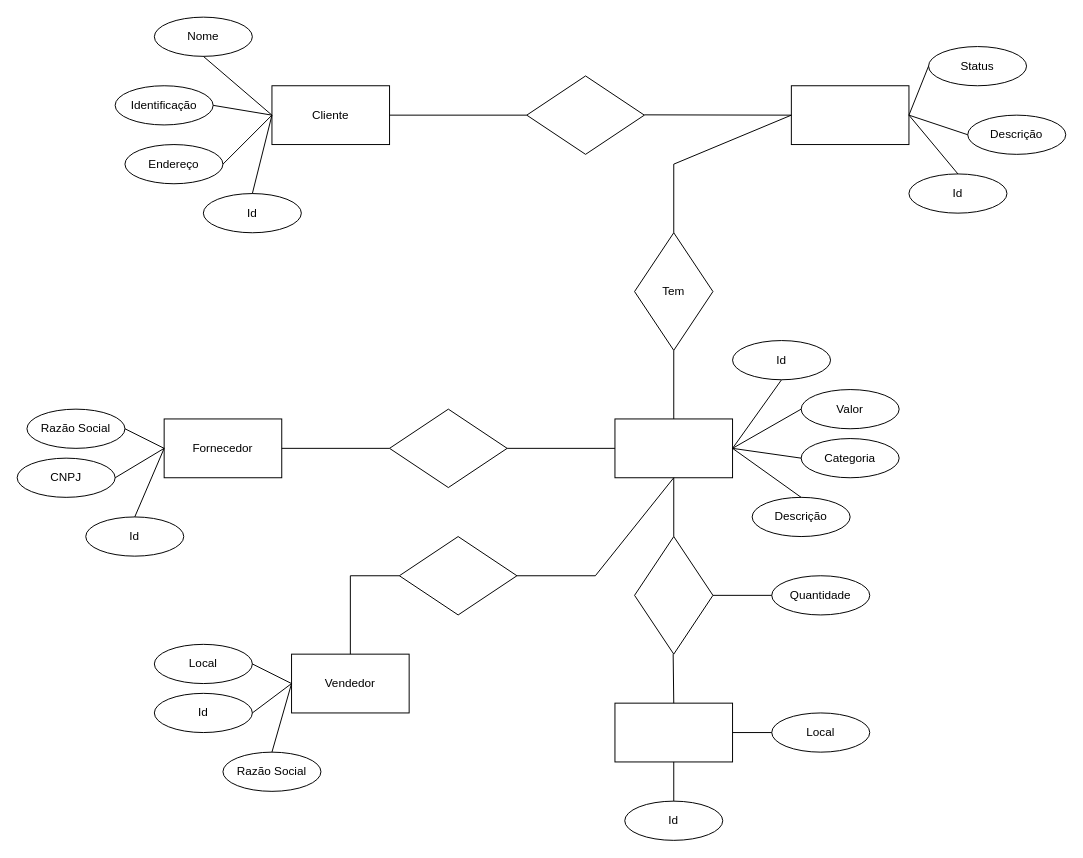
Image size: 1083x858. Some labels were removed from this diagram. The shapes that lost their labels are listed below. From the top down, each one's box as (x1, y1, x2, y2) in pixels, then its label:
(526, 75, 644, 154): Cria
(790, 85, 909, 145): Pedido
(389, 408, 507, 488): Fornece
(614, 418, 733, 478): Produto
(398, 536, 517, 615): Vende
(634, 536, 713, 654): Estoca
(614, 702, 733, 762): Estoque
